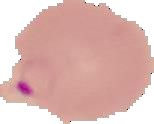parasitized: (12, 55, 68, 106)
